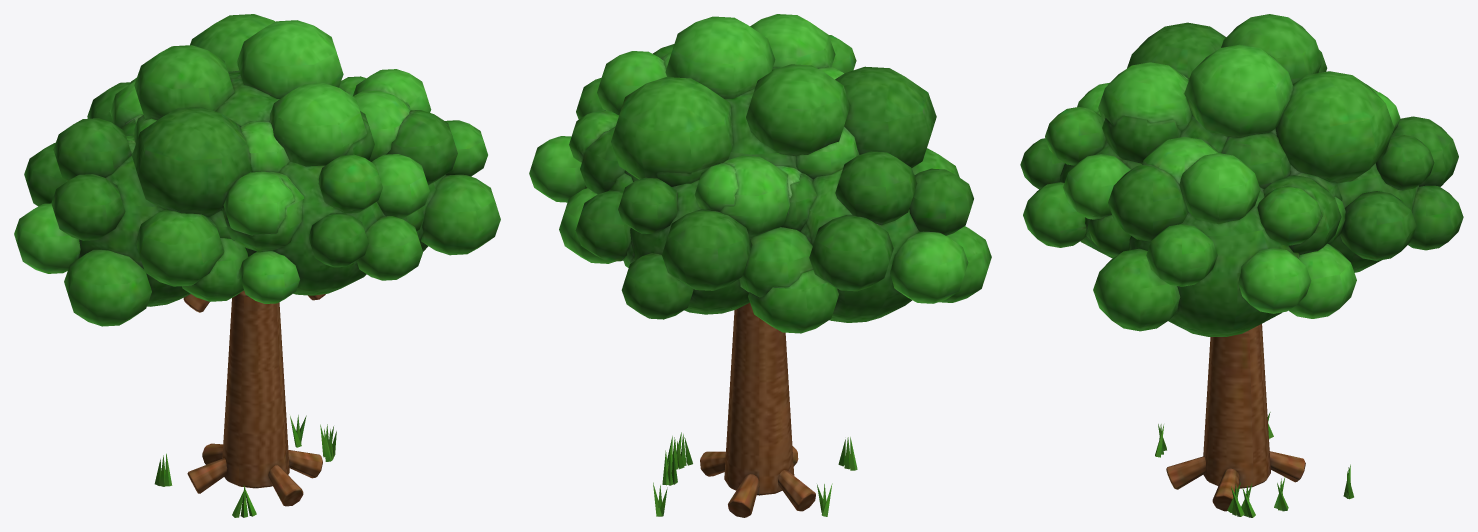
The model's file is fig_tree.glb.
3 renders of one model, left to right at view 1: azimuth 30°, elevation 25°; view 2: azimuth 150°, elevation 25°; view 3: azimuth 270°, elevation 25°, orthographic. The views are drawn at different scales.
Parts seen in each view (by area): view 1: crown, fig_tree; view 2: crown, fig_tree; view 3: crown, fig_tree.
Boxes of the visible parts, left/top/right/bottom form: crown: left=14, top=14, right=500, bottom=326; fig_tree: left=154, top=290, right=336, bottom=517; crown: left=529, top=14, right=991, bottom=333; fig_tree: left=653, top=303, right=857, bottom=517; crown: left=1020, top=14, right=1463, bottom=336; fig_tree: left=1155, top=324, right=1353, bottom=517.
Size of the model in its own units: 1.27 by 1.3 by 1.15.
1 material, 1 textured.
